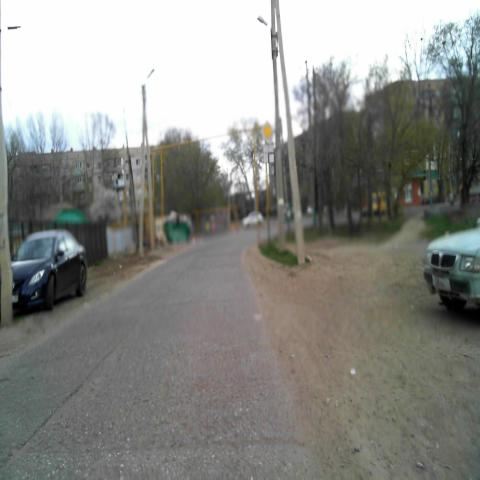2_1: (262, 122, 272, 142)
8_13: (263, 144, 274, 163)
